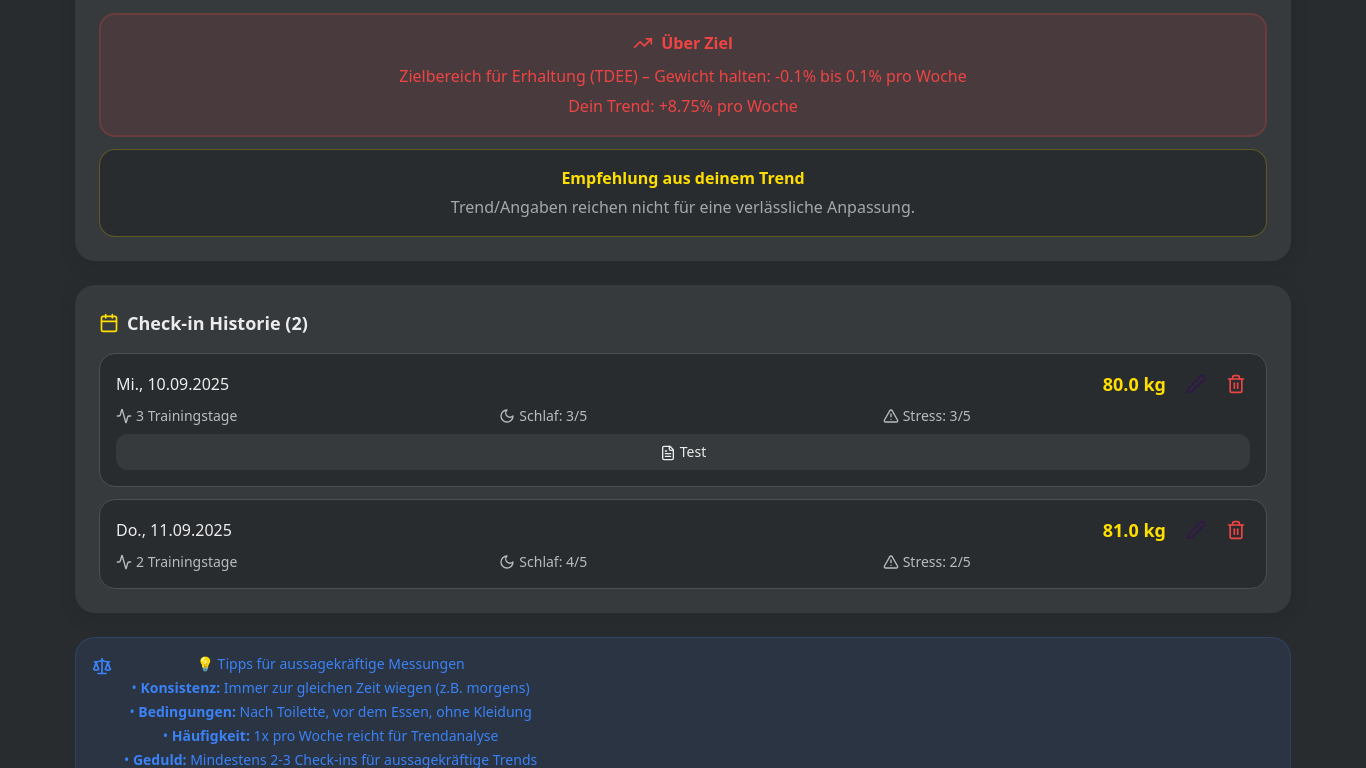
Scenario: CheckinPage UI › Bearbeiten ändert Gewicht
The image size is (1366, 768).
(page scrolled)
Note: Edit-Button für ersten Eintrag klicken
Click the button titled "Bearbeiten" in the row of "80.0" at (1196, 384), box left=1182, top=370, right=1210, bottom=398
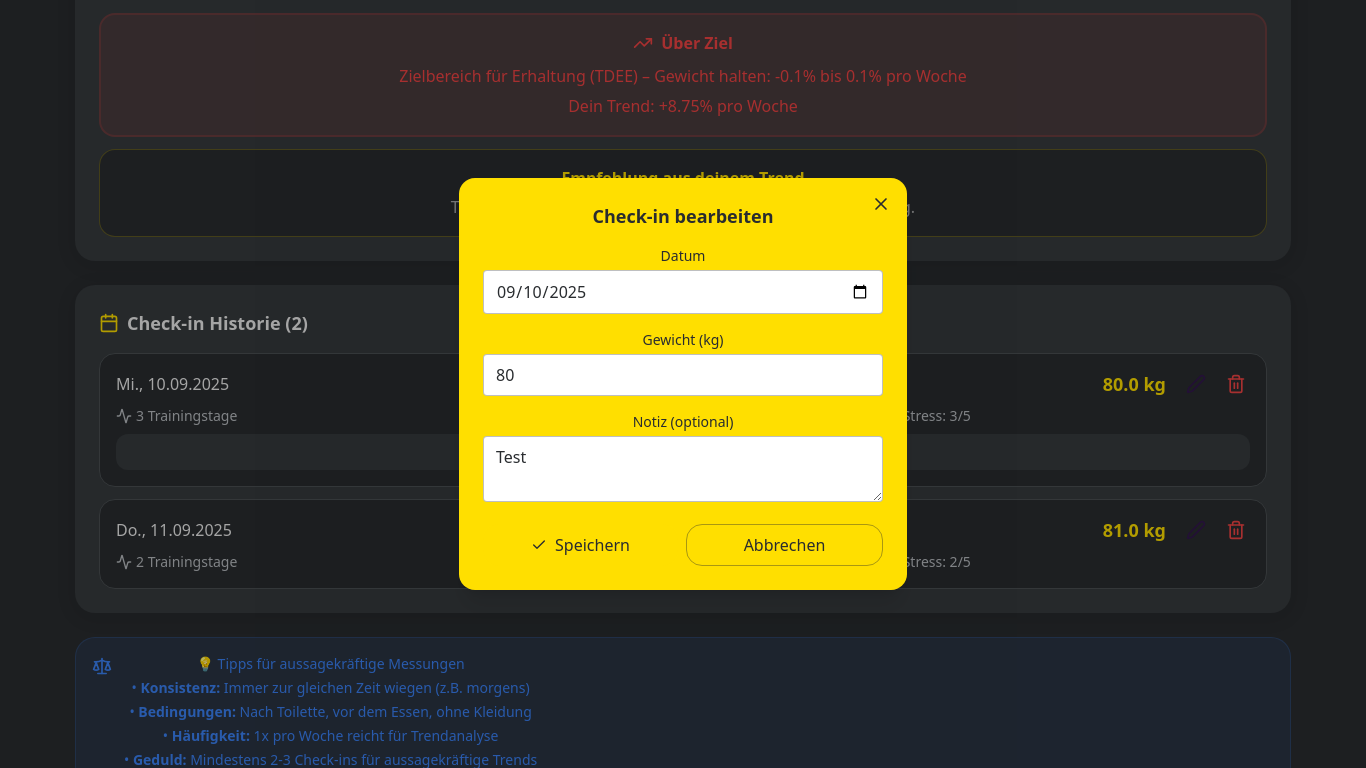
Now the heading "Check-in bearbeiten" is shown, box left=592, top=204, right=774, bottom=228
Note: Gewicht ändern
Replace the text in the number field labelled "Gewicht (kg)" with "85" at (683, 375), box left=483, top=354, right=883, bottom=396
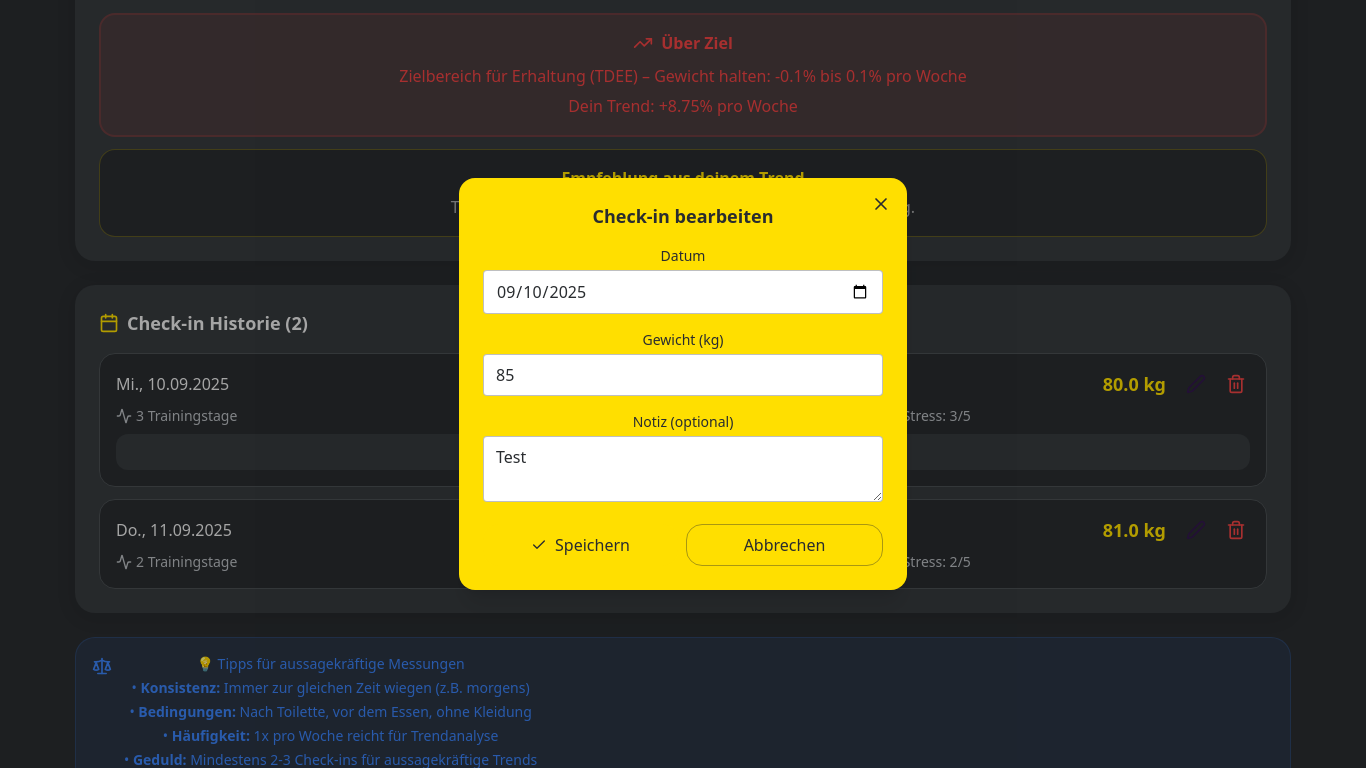
Click the button "Speichern" at (580, 545), box left=483, top=524, right=678, bottom=566
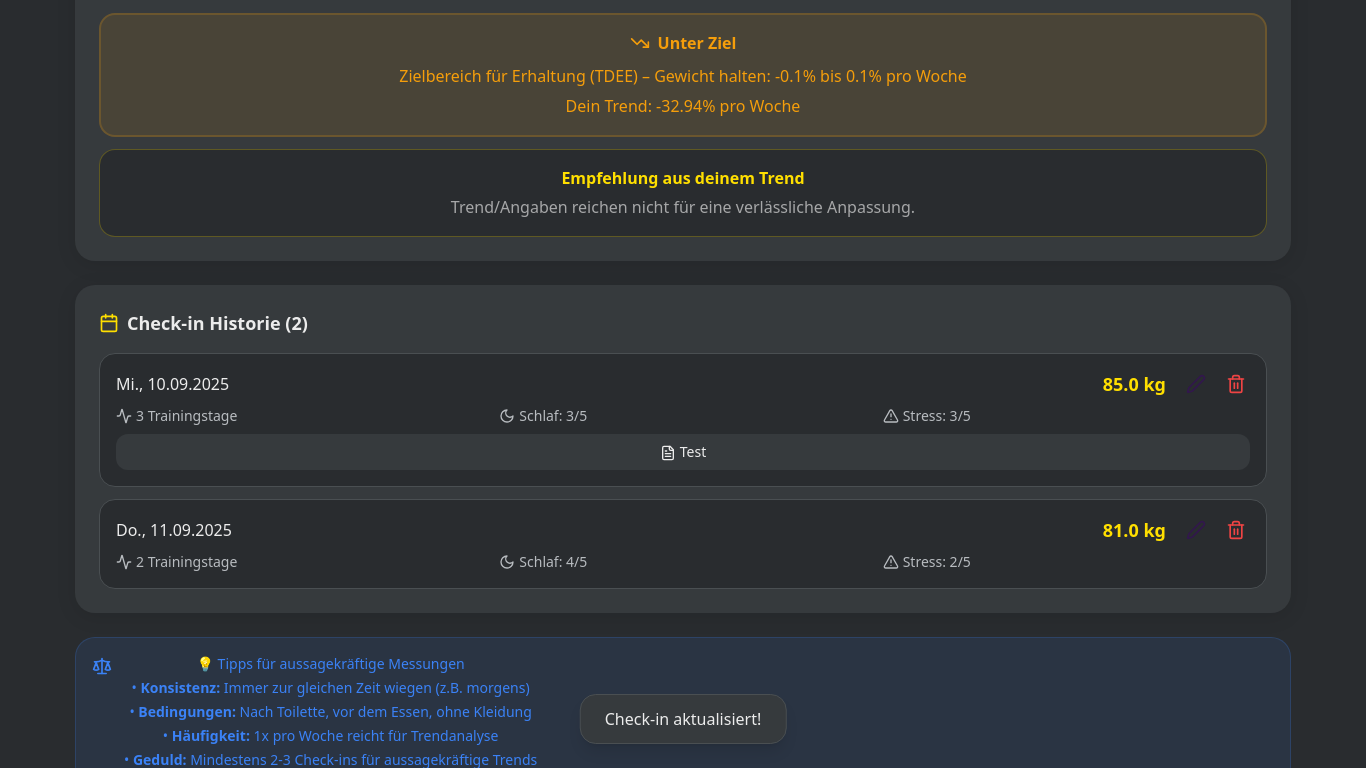
Now the text "Check-in aktualisiert!" is shown, box left=580, top=694, right=786, bottom=744
Now the text "85.0 kg" is shown, box left=1103, top=370, right=1166, bottom=398
